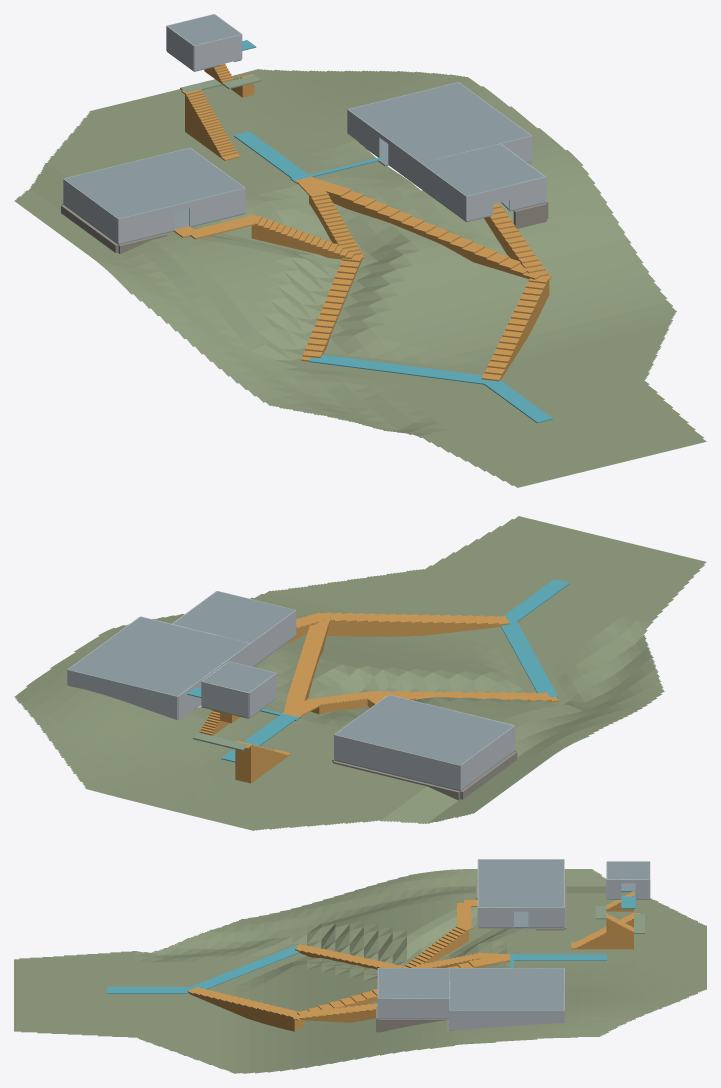
The model's file is connected-stairs.glb.
3 views of the same model, one above another, from view 1: azimuth 30°, elevation 25°; view 2: azimuth 150°, elevation 25°; view 3: azimuth 270°, elevation 25° (orthographic). The views are drawn at different scales.
Visible parts, largest first — view 1: Saved editor stair bench terrain WLD-04, Ceiling cap ruin, Ceiling cap hut, Ceiling cap store, Bayed shell Wall hut S, Opened stair shell Wall store S, L02 support 0, Wall hut W, Ceiling cap cab, Wall cab S, Wall store W, Wall ruin W (+2 smaller); view 2: Saved editor stair bench terrain WLD-04, Ceiling cap ruin, Ceiling cap hut, Ceiling cap store, Wall hut N, Wall ruin N, Wall hut W, L02 support 0, Ceiling cap cab, Wall cab N, Wall store W, Wall cab W (+3 smaller); view 3: Saved editor stair bench terrain WLD-04, Ceiling cap ruin, Ceiling cap hut, Ceiling cap store, Wall ruin E, Wall store E, L02 support 0, Ceiling cap cab, Wall hut E, Wall hut E.001, Bayed stair WLD-04 L06 step1.
Part boxes in pixels (box(x1,y1,x2,y2)): Saved editor stair bench terrain WLD-04: box(14, 69, 706, 487); Ceiling cap ruin: box(348, 82, 530, 162); Ceiling cap hut: box(64, 148, 243, 218); Ceiling cap store: box(421, 144, 544, 195); Bayed shell Wall hut S: box(118, 188, 245, 243); Opened stair shell Wall store S: box(466, 177, 545, 220); L02 support 0: box(308, 354, 489, 384); Wall hut W: box(63, 179, 118, 243); Ceiling cap cab: box(168, 14, 241, 45); Wall cab S: box(194, 34, 241, 70); Wall store W: box(420, 163, 466, 220); Wall ruin W: box(347, 109, 380, 157); Saved editor stair bench terrain WLD-04: box(14, 516, 706, 830); Ceiling cap ruin: box(68, 617, 249, 696); Ceiling cap hut: box(335, 695, 513, 765); Ceiling cap store: box(173, 591, 294, 643); Wall hut N: box(334, 735, 460, 790); Wall ruin N: box(67, 669, 177, 720); Wall hut W: box(460, 725, 515, 789); L02 support 0: box(500, 620, 558, 697); Ceiling cap cab: box(202, 661, 275, 692); Wall cab N: box(201, 681, 248, 717); Wall store W: box(250, 610, 296, 666); Wall cab W: box(249, 673, 276, 717); Saved editor stair bench terrain WLD-04: box(14, 869, 706, 1073); Ceiling cap ruin: box(449, 968, 563, 1010); Ceiling cap hut: box(478, 859, 563, 907); Ceiling cap store: box(378, 968, 449, 998); Wall ruin E: box(449, 1010, 563, 1029); Wall store E: box(378, 998, 449, 1017); L02 support 0: box(191, 946, 299, 989); Ceiling cap cab: box(607, 861, 649, 879); Wall hut E: box(528, 907, 563, 927); Wall hut E.001: box(478, 907, 513, 927); Bayed stair WLD-04 L06 step1: box(457, 903, 471, 927).
Size of the model in its own units: 59 by 19.15 by 97.
